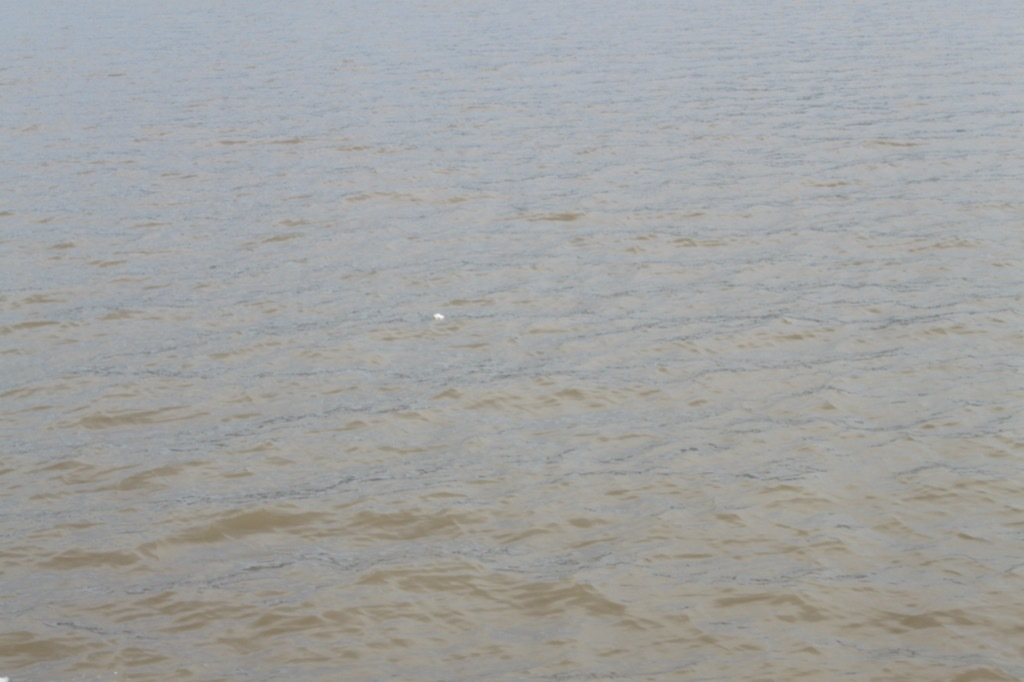plastic: (422, 304, 456, 334)
